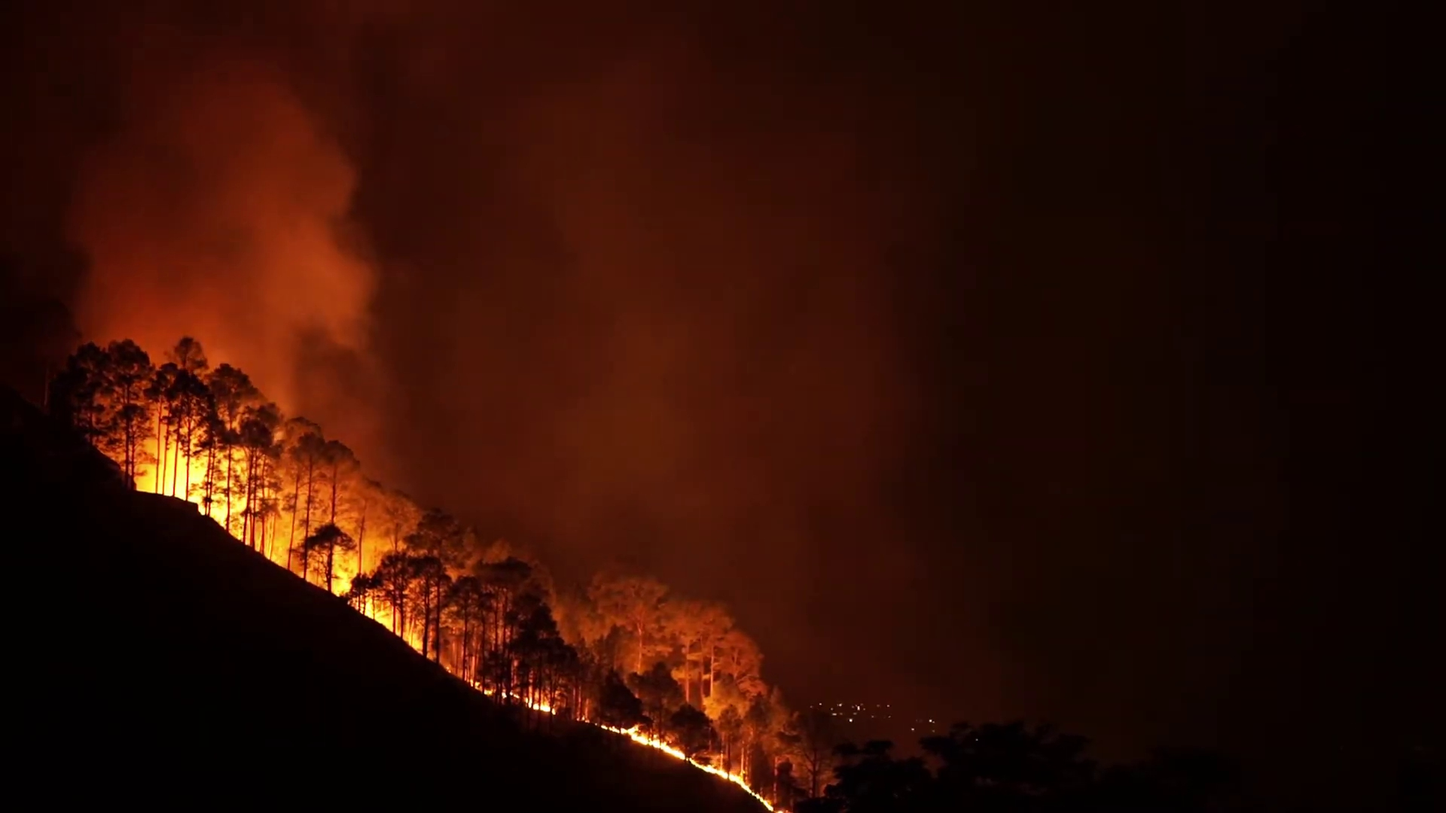forest_fire: (47, 337, 805, 810), (814, 764, 820, 769), (813, 781, 816, 784)
